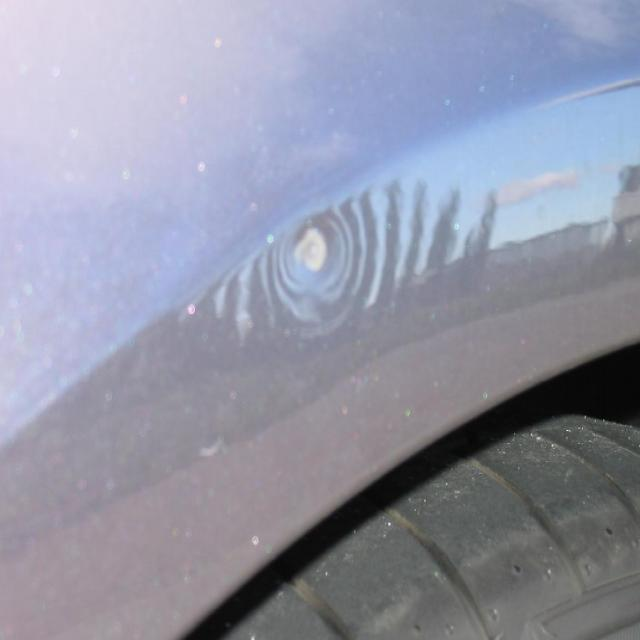dents: (241, 190, 393, 347)
